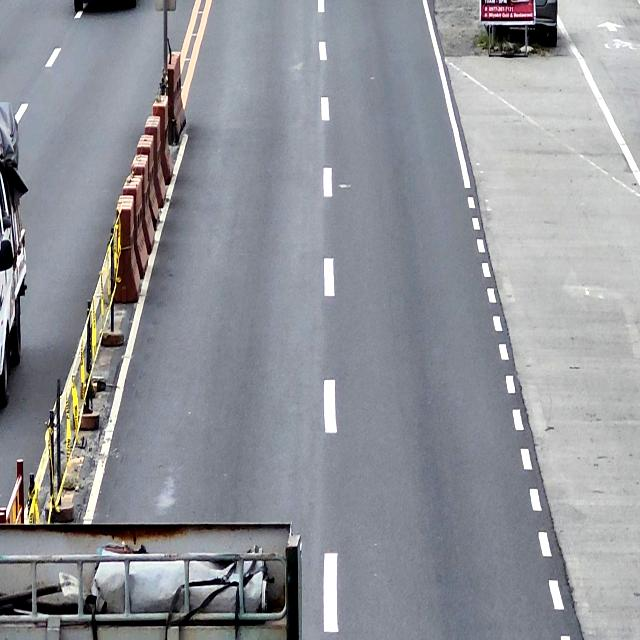Truck: (0, 521, 305, 640)
